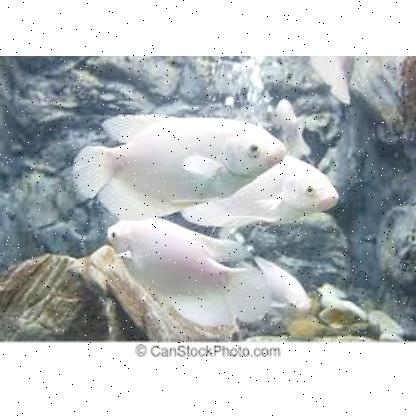gurame: (76, 112, 280, 212), (108, 215, 242, 297), (213, 158, 339, 218), (257, 262, 309, 318)
